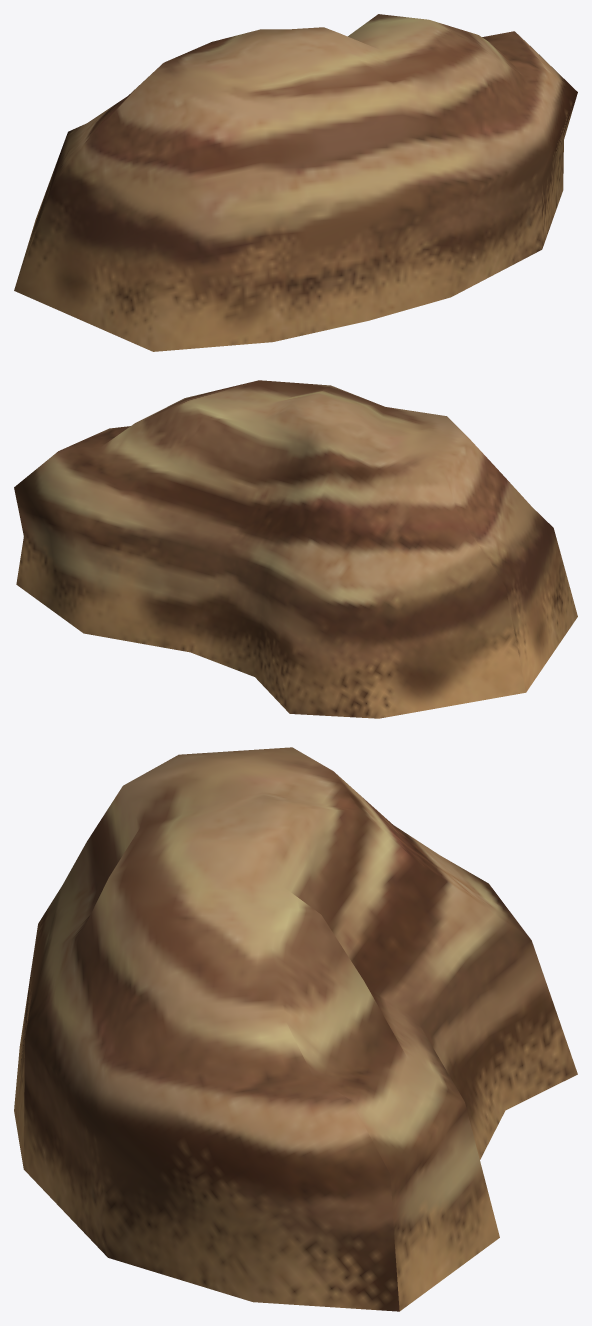
Rendered from shitou11.FBX.
3 views of the same model, one above another, from view 1: azimuth 30°, elevation 25°; view 2: azimuth 150°, elevation 25°; view 3: azimuth 270°, elevation 25° (orthographic). The views are drawn at different scales.
Parts seen in each view (by area): view 1: shitou10; view 2: shitou10; view 3: shitou10.
Boxes of the visible parts, x1=… form: shitou10: x1=14, y1=14, x2=577, y2=351; shitou10: x1=14, y1=380, x2=577, y2=718; shitou10: x1=14, y1=747, x2=577, y2=1311.
Bounding box in the file's own units: 243 × 95.36 × 158.
